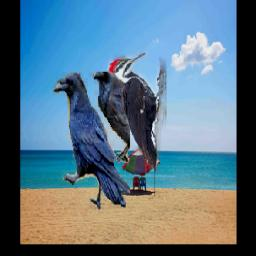Crow: (52, 72, 130, 209)
Woodpecker: (107, 51, 166, 172)
